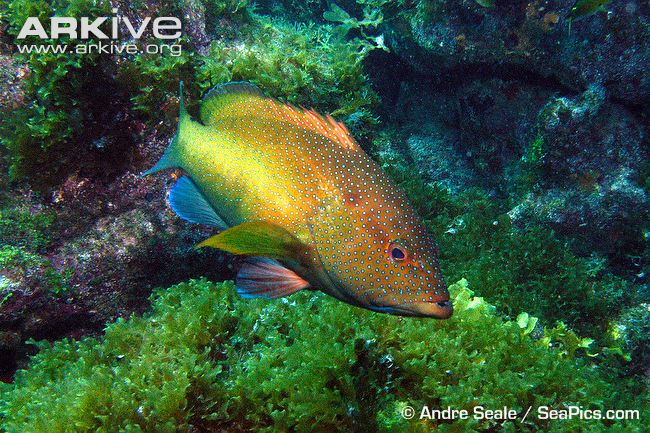Cephalopholis_fulvaw: (140, 70, 467, 326)
